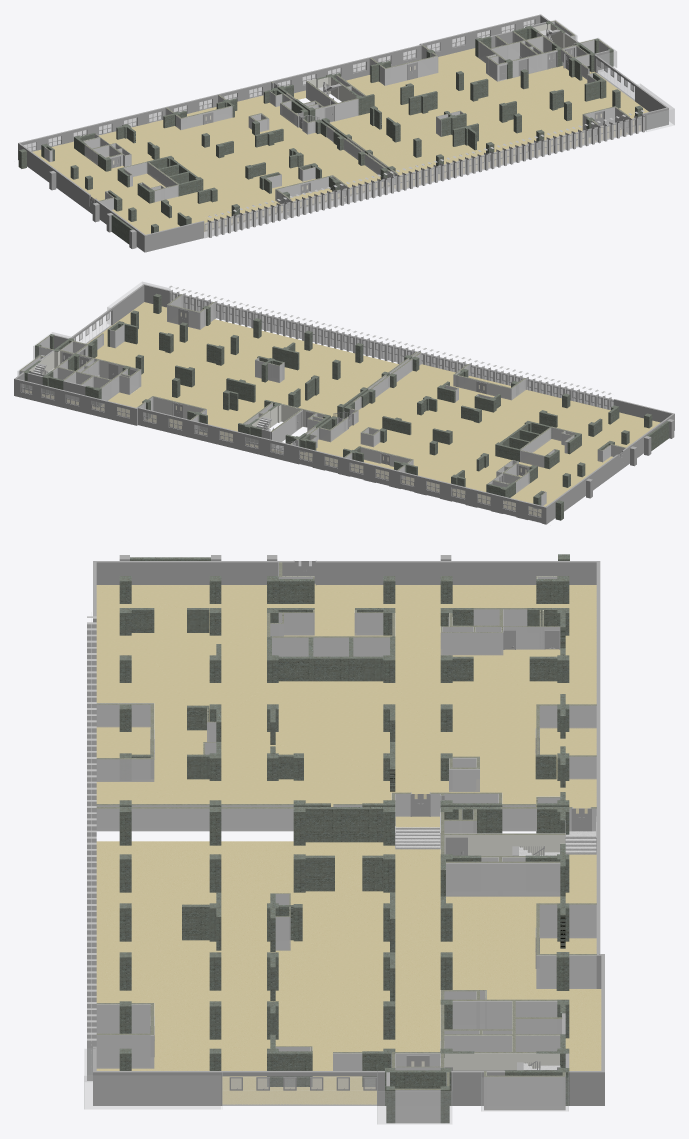
3 renders of one model, top to bottom at view 1: azimuth 30°, elevation 25°; view 2: azimuth 150°, elevation 25°; view 3: azimuth 270°, elevation 25°, orthographic. The views are drawn at different scales.
Visible parts, largest first — view 1: CA01 地胶板 [953258], CA01 地胶板 [953202], 外部（外墙） - 带粉刷砖与砌块复合墙 240 [659719], CA01 地胶板 [953318], 外部（外墙） - 带粉刷砖与砌块复合墙 240 [669593], 外部（外墙） - 带粉刷砖与砌块复合墙 240 [659773], 外部（外墙） - 带粉刷砖与砌块复合墙 240 [808237], 内部（隔墙） - 砌块240 [922753], 外部（外墙） - 带粉刷砖与砌块复合墙 240 [646103], 内部（隔墙） - 砌块240 [474589], 内部（隔墙） - 砌块240 [923279], 内部（隔墙） - 砌块240 [395443] (+6 smaller); view 2: CA01 地胶板 [953258], CA01 地胶板 [953202], 外部（外墙） - 带粉刷砖与砌块复合墙 240 [659719], CA01 地胶板 [953318], 外部（外墙） - 带粉刷砖与砌块复合墙 240 [659773], 外部（外墙） - 带粉刷砖与砌块复合墙 240 [669593], 外部（外墙） - 带粉刷砖与砌块复合墙 240 [646103], 内部（隔墙） - 砌块240 [924962], 外部（外墙） - 带粉刷砖与砌块复合墙 240 [808237], 内部（隔墙） - 砌块240 [922753], 内部（隔墙） - 砌块240 [474742], 内部（隔墙） - 砌块240 [395443] (+5 smaller); view 3: CA01 地胶板 [953258], CA01 地胶板 [953202], CA01 地胶板 [953318], 外部（外墙） - 带粉刷砖与砌块复合墙 240 [669593], 外部（外墙） - 带粉刷砖与砌块复合墙 240 [646103], GL01 钢化白色烤漆玻璃 [698871], 内部（隔墙） - 砌块240 [391361], GL01 钢化白色烤漆玻璃 [646391], 内部（隔墙） - 砌块200 [393101], 基础墙（剪力墙）- 钢筋混凝土300 [467295], 内部（隔墙） - 砌块240 [395562], GL01 钢化白色烤漆玻璃 [649818] (+29 smaller).
Boxes of the visible parts, x1=… form: CA01 地胶板 [953258]: x1=32, y1=95, x2=389, y2=234; CA01 地胶板 [953202]: x1=330, y1=65, x2=648, y2=188; 外部（外墙） - 带粉刷砖与砌块复合墙 240 [659719]: x1=18, y1=44, x2=422, y2=159; CA01 地胶板 [953318]: x1=294, y1=48, x2=496, y2=109; 外部（外墙） - 带粉刷砖与砌块复合墙 240 [669593]: x1=18, y1=143, x2=146, y2=252; 外部（外墙） - 带粉刷砖与砌块复合墙 240 [659773]: x1=420, y1=14, x2=540, y2=56; 外部（外墙） - 带粉刷砖与砌块复合墙 240 [808237]: x1=145, y1=220, x2=204, y2=252; 内部（隔墙） - 砌块240 [922753]: x1=384, y1=55, x2=438, y2=85; 外部（外墙） - 带粉刷砖与砌块复合墙 240 [646103]: x1=594, y1=54, x2=668, y2=124; 内部（隔墙） - 砌块240 [474589]: x1=314, y1=98, x2=358, y2=122; 内部（隔墙） - 砌块240 [923279]: x1=180, y1=105, x2=232, y2=129; 内部（隔墙） - 砌块240 [395443]: x1=490, y1=35, x2=543, y2=60; CA01 地胶板 [953258]: x1=300, y1=364, x2=660, y2=516; CA01 地胶板 [953202]: x1=87, y1=302, x2=398, y2=416; 外部（外墙） - 带粉刷砖与砌块复合墙 240 [659719]: x1=138, y1=407, x2=547, y2=524; CA01 地胶板 [953318]: x1=23, y1=387, x2=281, y2=452; 外部（外墙） - 带粉刷砖与砌块复合墙 240 [659773]: x1=15, y1=378, x2=136, y2=425; 外部（外墙） - 带粉刷砖与砌块复合墙 240 [669593]: x1=546, y1=413, x2=674, y2=523; 外部（外墙） - 带粉刷砖与砌块复合墙 240 [646103]: x1=70, y1=284, x2=144, y2=343; 内部（隔墙） - 砌块240 [924962]: x1=453, y1=374, x2=510, y2=399; 外部（外墙） - 带粉刷砖与砌块复合墙 240 [808237]: x1=613, y1=399, x2=673, y2=422; 内部（隔墙） - 砌块240 [922753]: x1=152, y1=396, x2=206, y2=418; 内部（隔墙） - 砌块240 [474742]: x1=270, y1=409, x2=302, y2=448; 内部（隔墙） - 砌块240 [395443]: x1=57, y1=367, x2=110, y2=387; CA01 地胶板 [953258]: x1=96, y1=584, x2=596, y2=827; CA01 地胶板 [953202]: x1=96, y1=841, x2=442, y2=1104; CA01 地胶板 [953318]: x1=442, y1=854, x2=601, y2=1070; 外部（外墙） - 带粉刷砖与砌块复合墙 240 [669593]: x1=93, y1=561, x2=598, y2=584; 外部（外墙） - 带粉刷砖与砌块复合墙 240 [646103]: x1=93, y1=1071, x2=384, y2=1105; GL01 钢化白色烤漆玻璃 [698871]: x1=84, y1=1076, x2=220, y2=1109; 内部（隔墙） - 砌块240 [391361]: x1=446, y1=861, x2=560, y2=896; GL01 钢化白色烤漆玻璃 [646391]: x1=481, y1=1078, x2=568, y2=1111; 内部（隔墙） - 砌块200 [393101]: x1=484, y1=1075, x2=562, y2=1110; 基础墙（剪力墙）- 钢筋混凝土300 [467295]: x1=305, y1=807, x2=383, y2=842; 内部（隔墙） - 砌块240 [395562]: x1=452, y1=999, x2=557, y2=1029; GL01 钢化白色烤漆玻璃 [649818]: x1=377, y1=1091, x2=451, y2=1124.
Bounding box in the file's own units: 85.5 × 3 × 35.04.
Materials: 14 (6 with a texture image).
